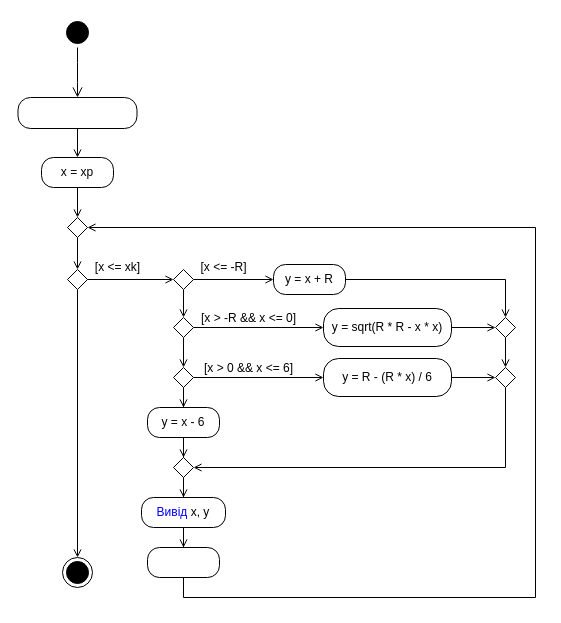
Some shapes in this 561 by 623 pixel diagram are drawn without their labels. Each missing label, with the centre of its shape:
x += dx: point (183, 562)
Ввід xp, xk, dx, R: point (77, 112)
